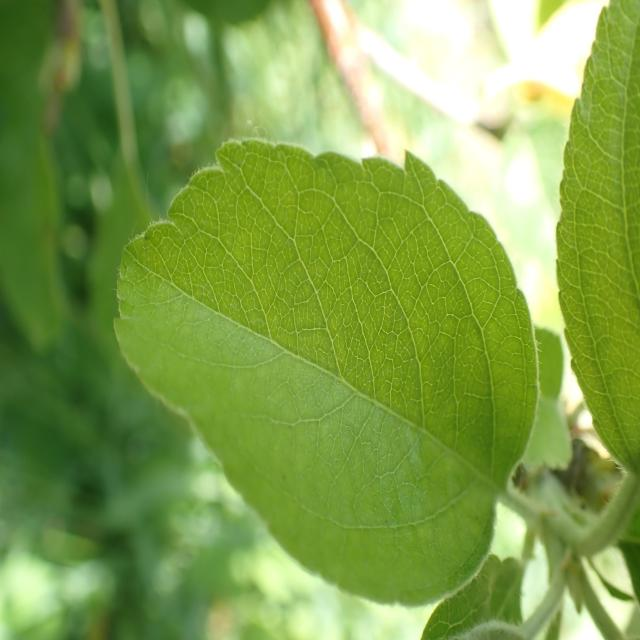healthy: (113, 136, 540, 607), (556, 0, 640, 472)
